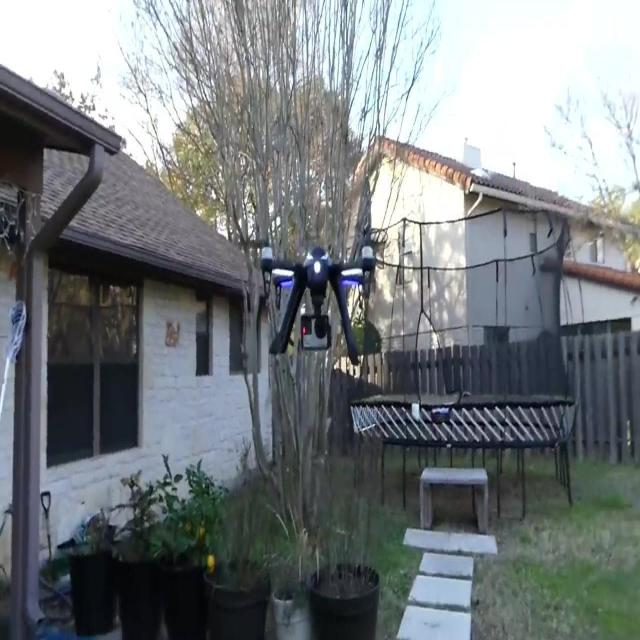UAV: (261, 246, 375, 366)
